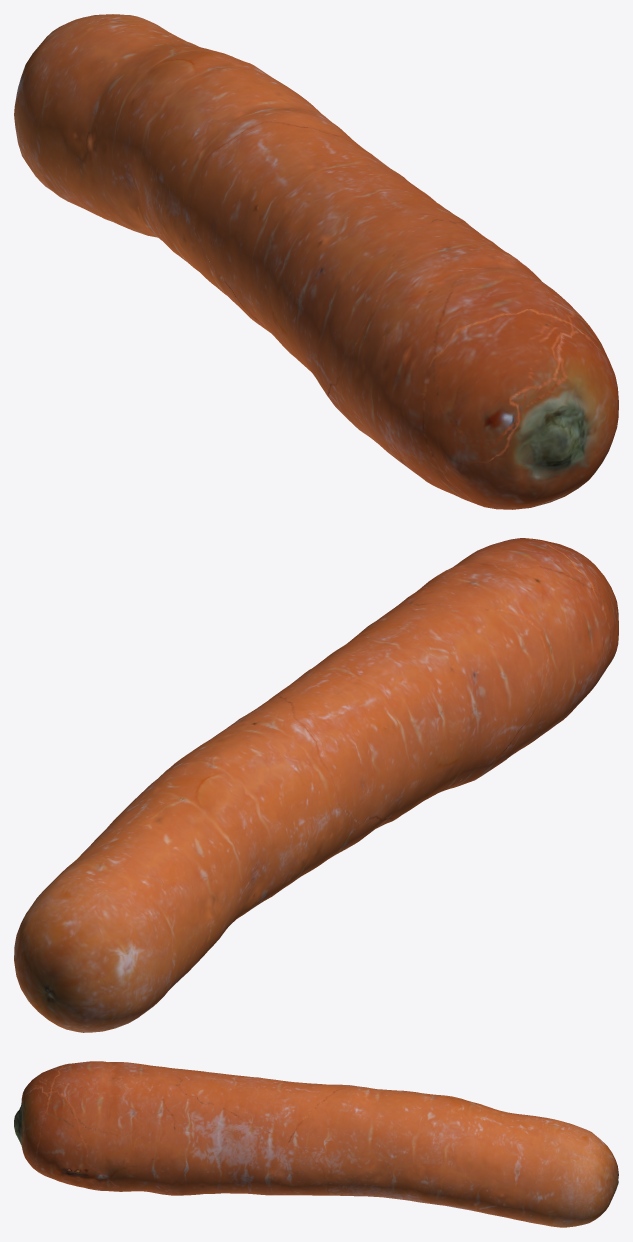
File: carrot.obj
3 renders of one model, top to bottom at view 1: azimuth 30°, elevation 25°; view 2: azimuth 150°, elevation 25°; view 3: azimuth 270°, elevation 25°, orthographic. The views are drawn at different scales.
Visible parts, largest first — view 1: marchew_4_model.001; view 2: marchew_4_model.001; view 3: marchew_4_model.001.
Boxes of the visible parts, left/top/right/bottom form: marchew_4_model.001: left=14, top=14, right=618, bottom=509; marchew_4_model.001: left=14, top=538, right=618, bottom=1032; marchew_4_model.001: left=14, top=1061, right=618, bottom=1227.
Bounding box in the file's own units: 0.0282 × 0.0287 × 0.1142.
